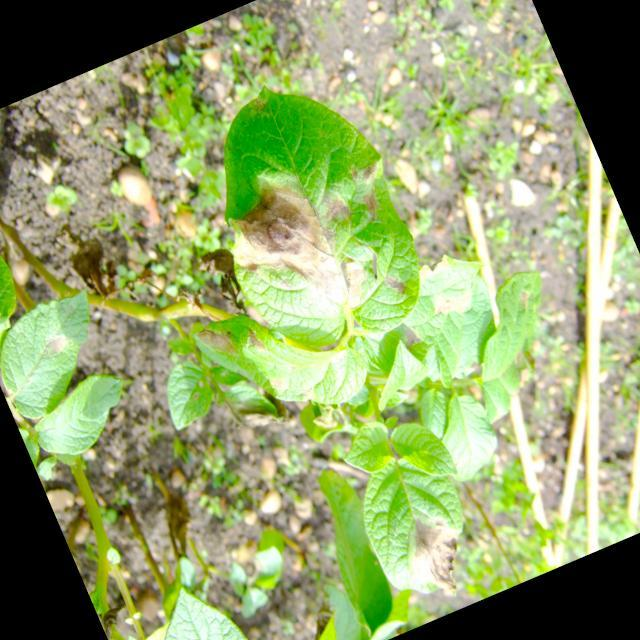Tomato late blight leaf: (177, 63, 452, 374), (341, 434, 495, 616), (0, 283, 125, 423)
